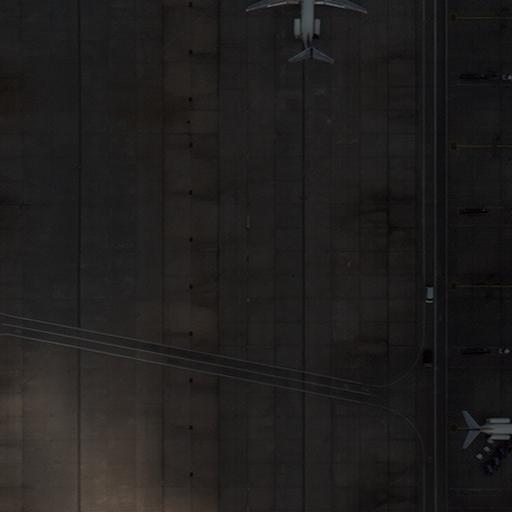Medium Civil Transport: (244, 0, 366, 61), (456, 385, 511, 473)
